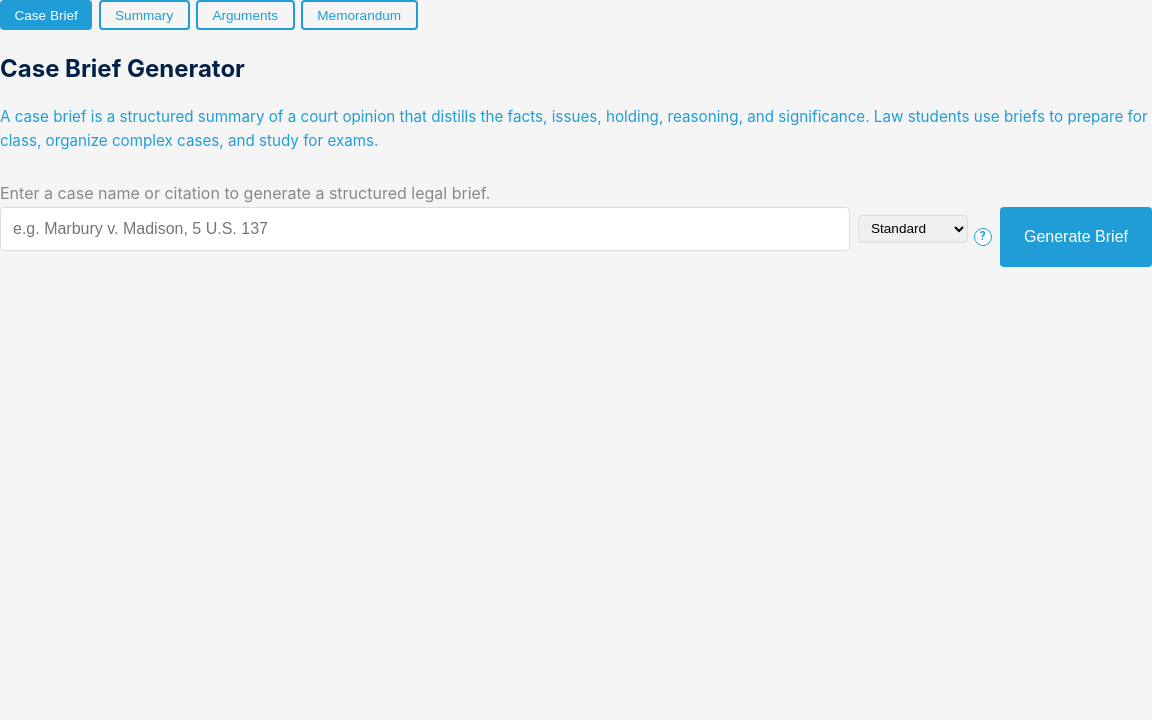
Test: DraftingView › keeps the generated brief when leaving and returning to the Case Brief tab
In the field with placeholder "e.g. Marbury v. Madison, 5 U.S. 137": [425, 229] box [0,207,850,251], type "Miranda v. Arizona"
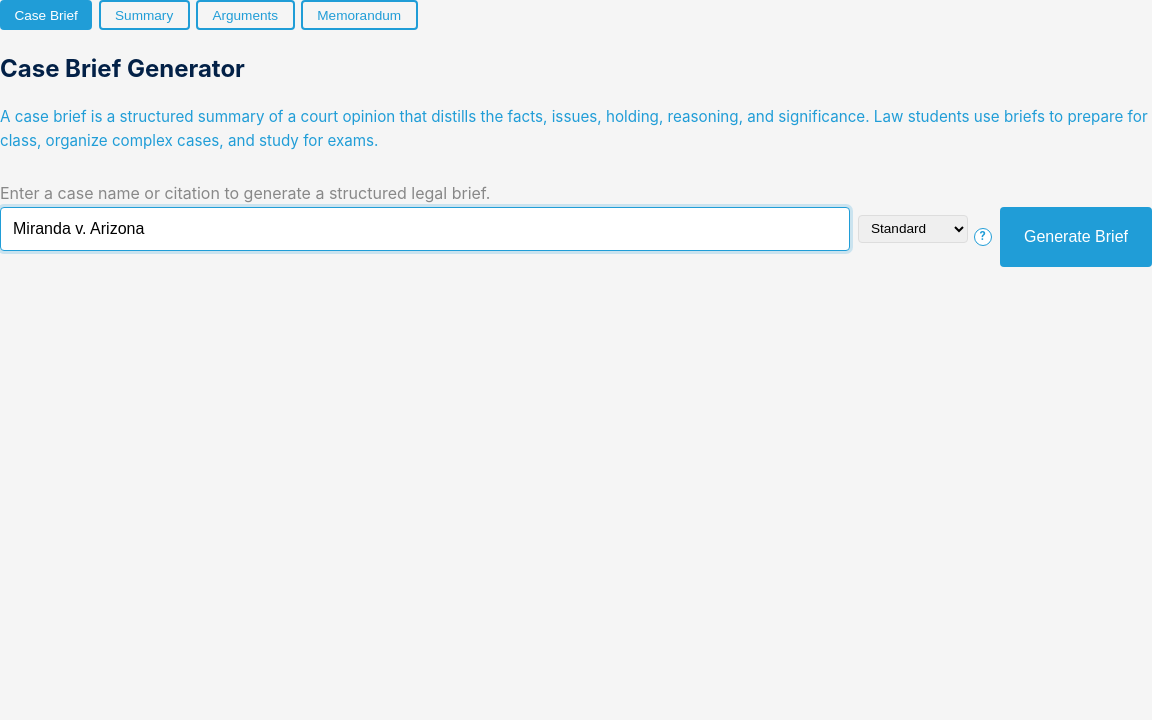
Click the button "Generate Brief": [1076, 237] box [1000,207,1151,267]
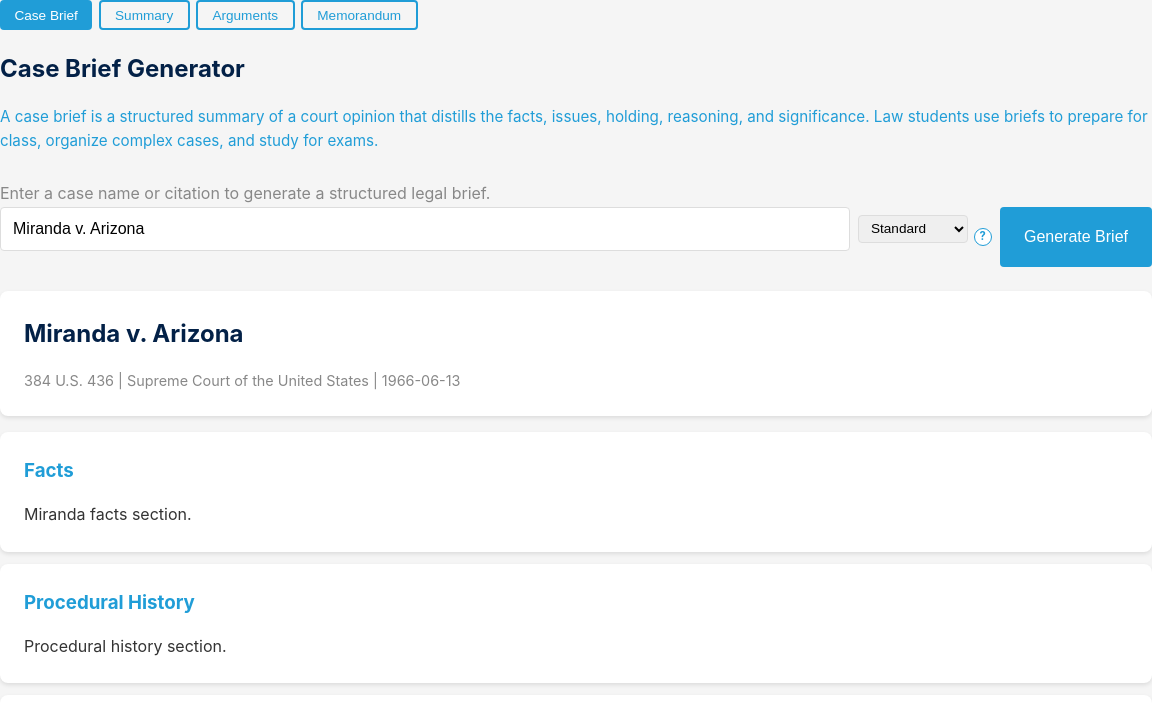
Check: the text "Miranda facts section." is shown, box [24,504,192,524]
Click the button "Summary": [144, 15] box [99,0,190,30]
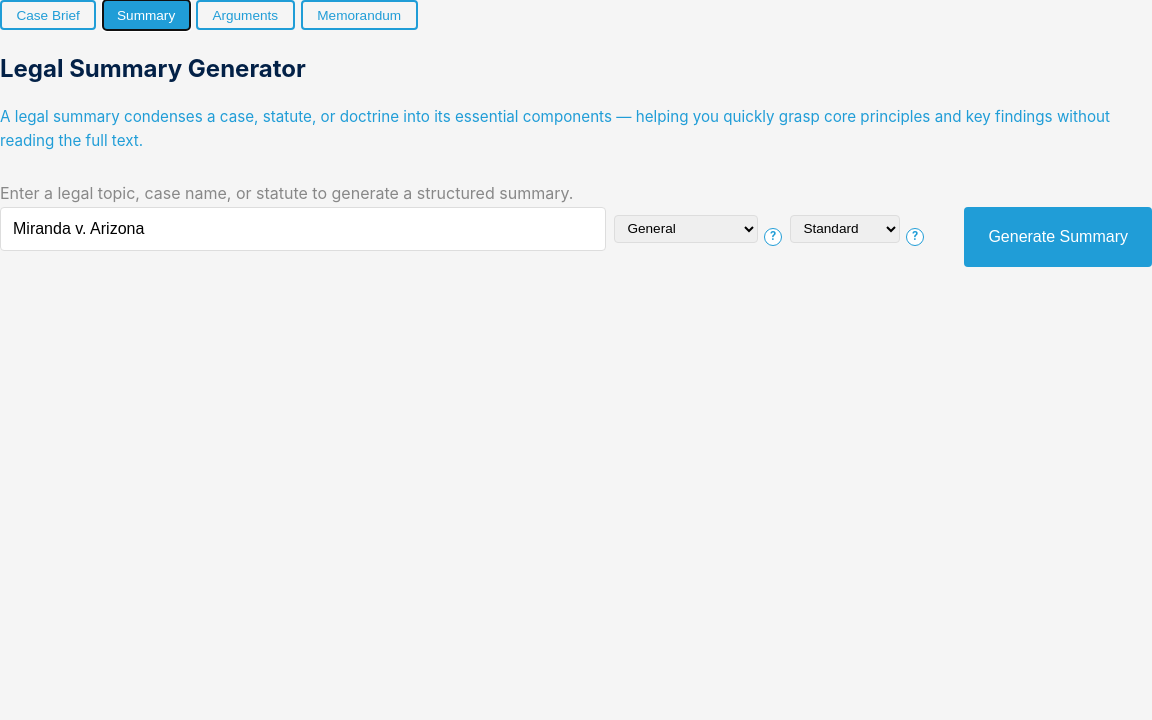
Check: the text "Miranda facts section." is gone
Click the button "Case Brief": [48, 15] box [0,0,96,30]
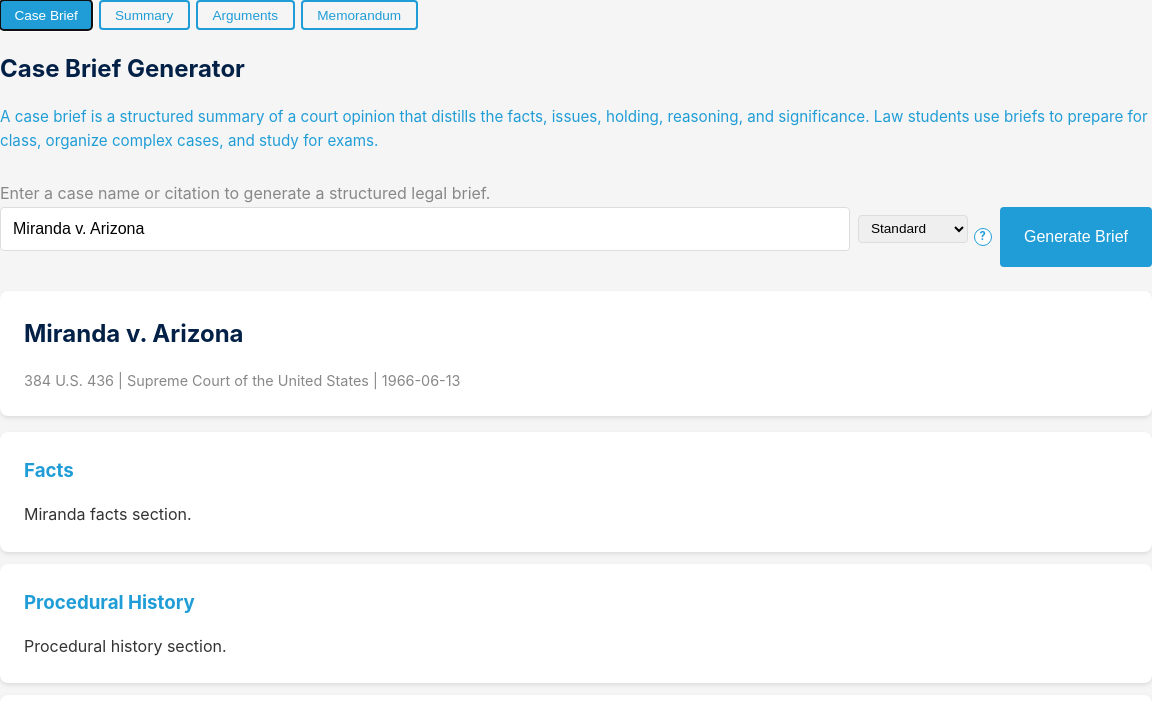
Check: the text "Miranda facts section." is shown, box [24,504,192,524]
